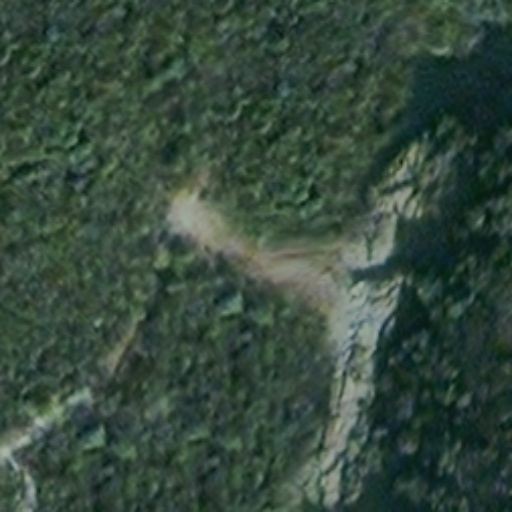landslide: (165, 188, 342, 305)
